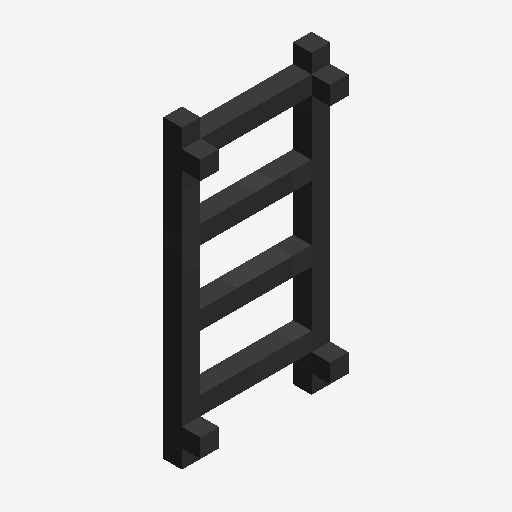
Isometric view (azimuth 45°, elevation 35.3°) of a Minecraft model made of 10 cuboids, textured from the same repository.
Visible parts, largest first — Shape1s, Shape1, Shape2, Shape2a, Shape2b, Shape2c, Shape3b, Shape3a, Shape3, Shape3c.
Boxes of the visible parts, x1,y1,x2,y2 form: Shape1s: [163, 107, 199, 468]; Shape1: [293, 32, 329, 394]; Shape2: [200, 320, 311, 415]; Shape2a: [200, 235, 311, 330]; Shape2b: [200, 149, 311, 244]; Shape2c: [200, 64, 311, 148]; Shape3b: [182, 416, 218, 458]; Shape3a: [312, 342, 348, 383]; Shape3: [312, 64, 348, 105]; Shape3c: [182, 138, 218, 180].
Size of the model in its own units: 8 by 16 by 2.